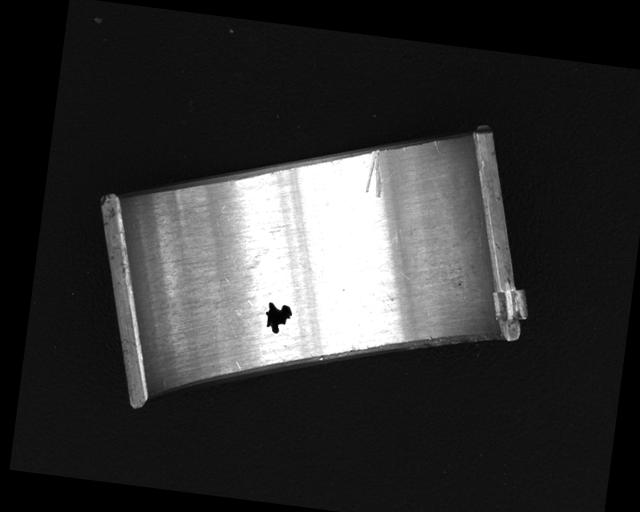blot: (261, 299, 294, 336)
nick: (363, 148, 388, 198), (432, 139, 441, 155)
